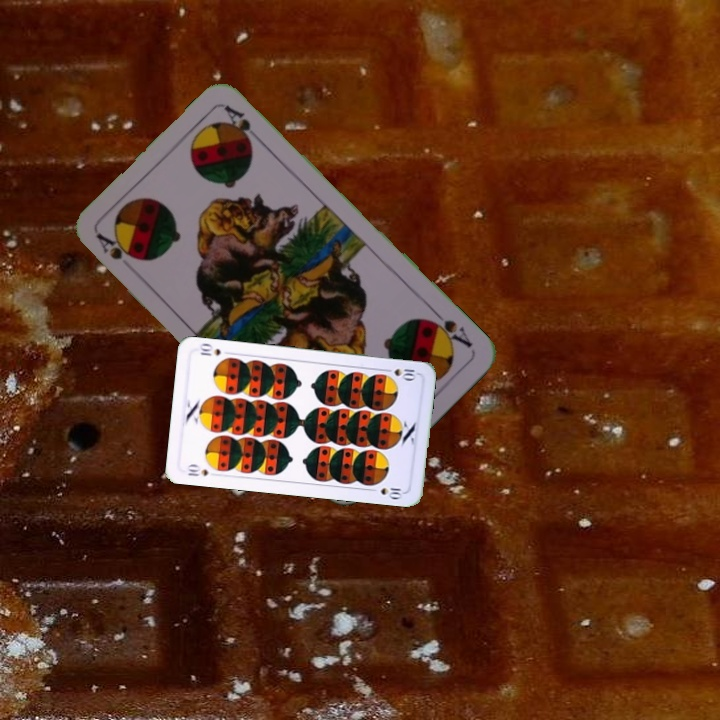S10: (380, 365, 420, 382), (183, 461, 211, 479)
SA: (422, 306, 475, 351), (93, 229, 136, 263)
